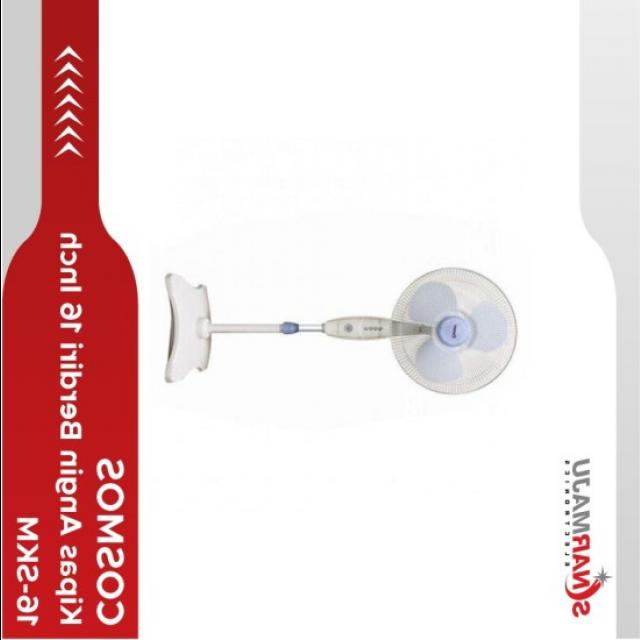fan: (160, 262, 524, 412)
